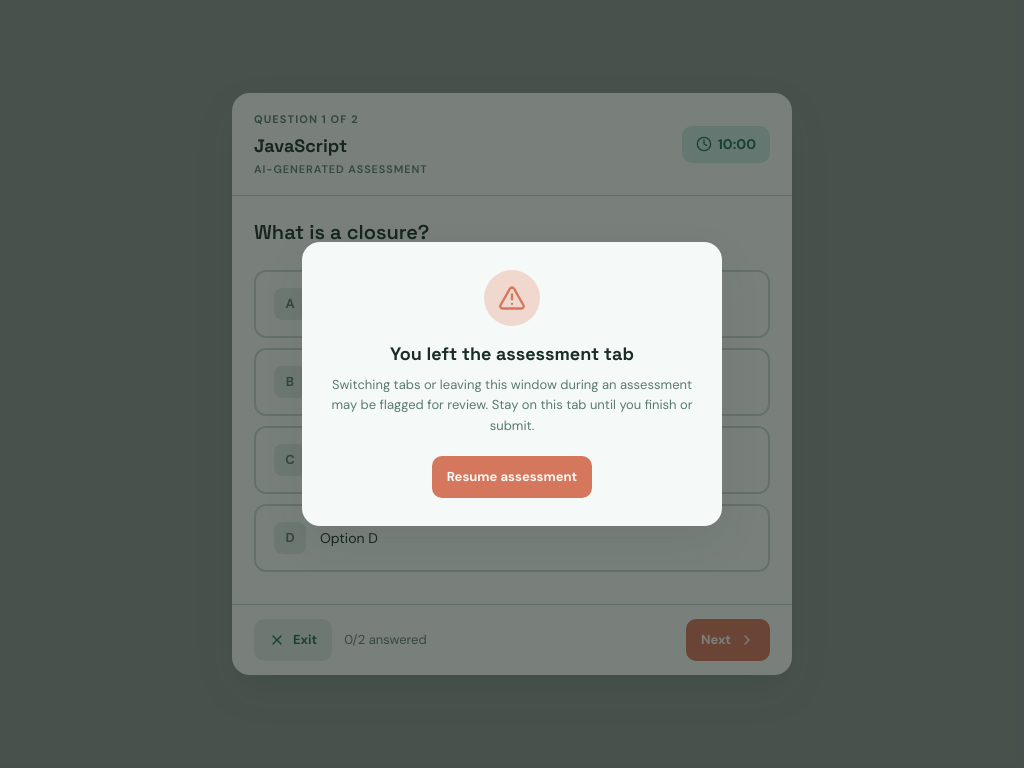
Test: AssessmentModal › warns when the learner leaves and returns to the assessment tab
Expected: the text "What is a closure?" is shown, [254, 219, 429, 245]
Expected: the text "You left the assessment tab" is shown, [390, 342, 634, 365]
Click the button "Resume assessment".
click(512, 477)  # box [432, 456, 592, 498]
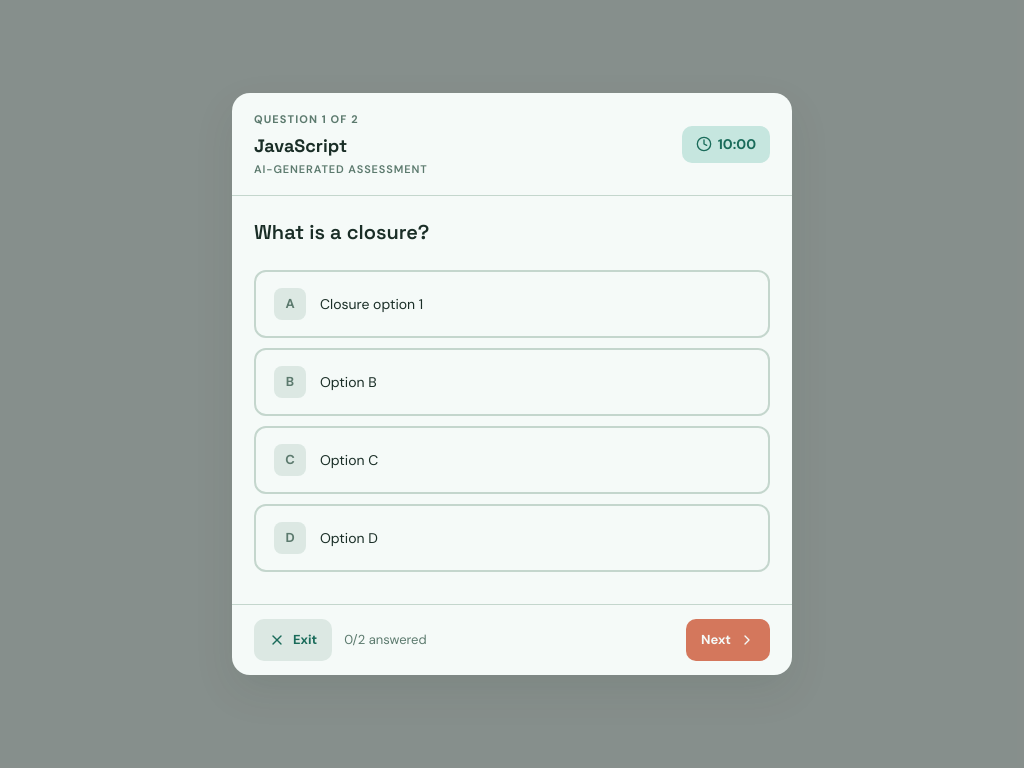
Result: the text "You left the assessment tab" is gone
